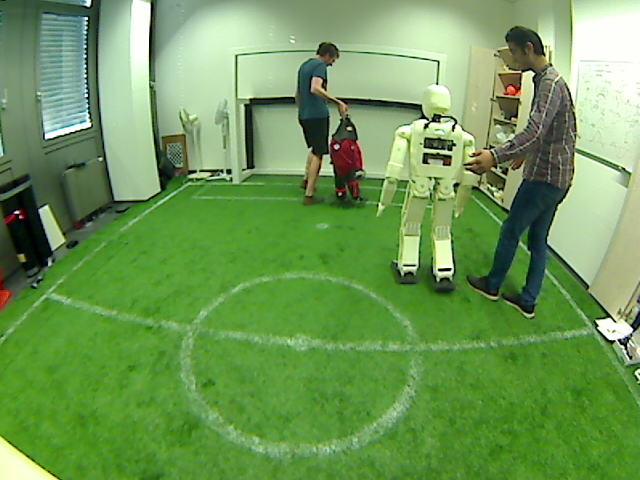ball: (355, 167, 368, 180)
goalpost: (224, 148, 246, 185)
robot: (398, 207, 452, 284), (341, 155, 358, 205)
